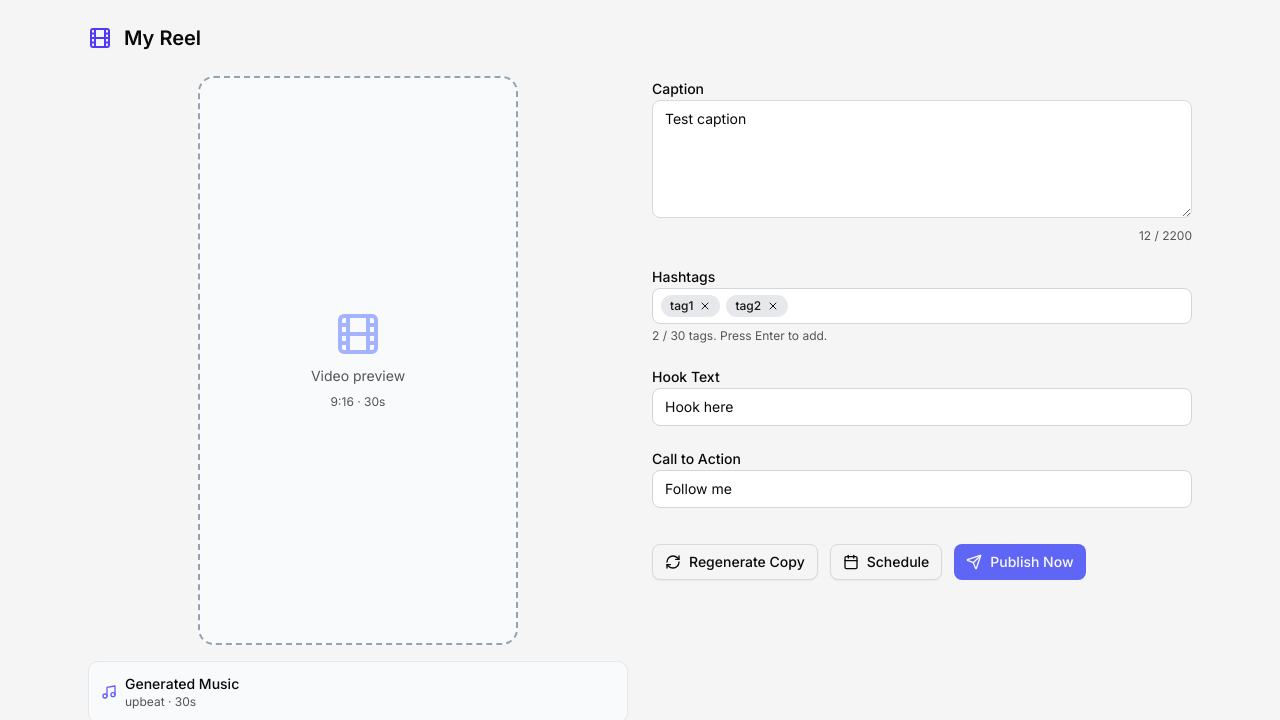
ContentPreviewPage › opens schedule dialog when Schedule button is clicked
Click the button "Schedule". click: (886, 562)
box: [830,544,942,580]
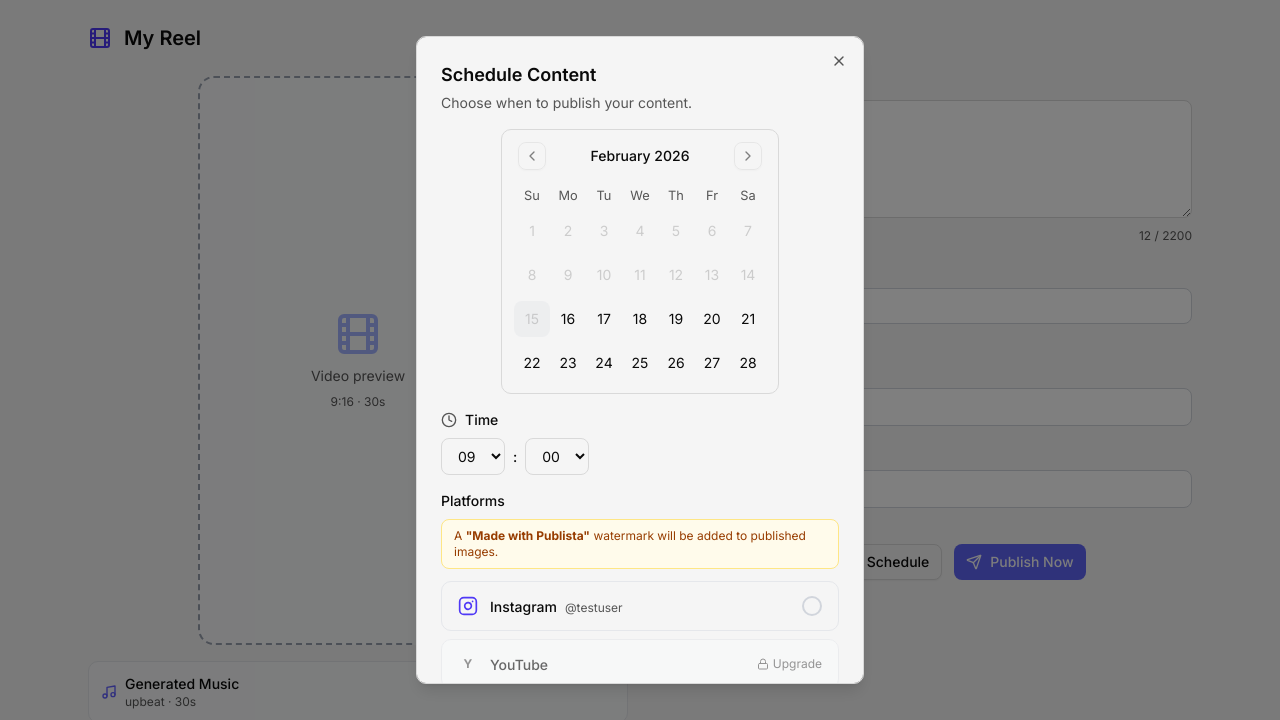
Result: the heading "Schedule Content" is shown at [441,64,596,85]
